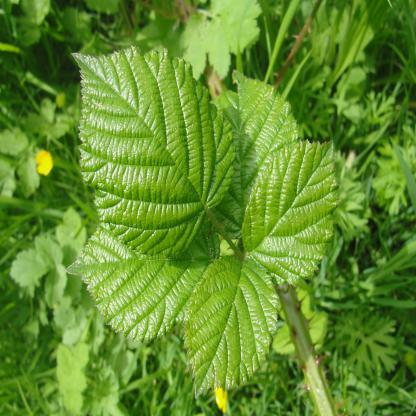Raspberry leaf: (70, 45, 236, 255), (66, 216, 215, 338), (212, 62, 301, 227), (242, 137, 340, 281), (187, 253, 278, 391)
